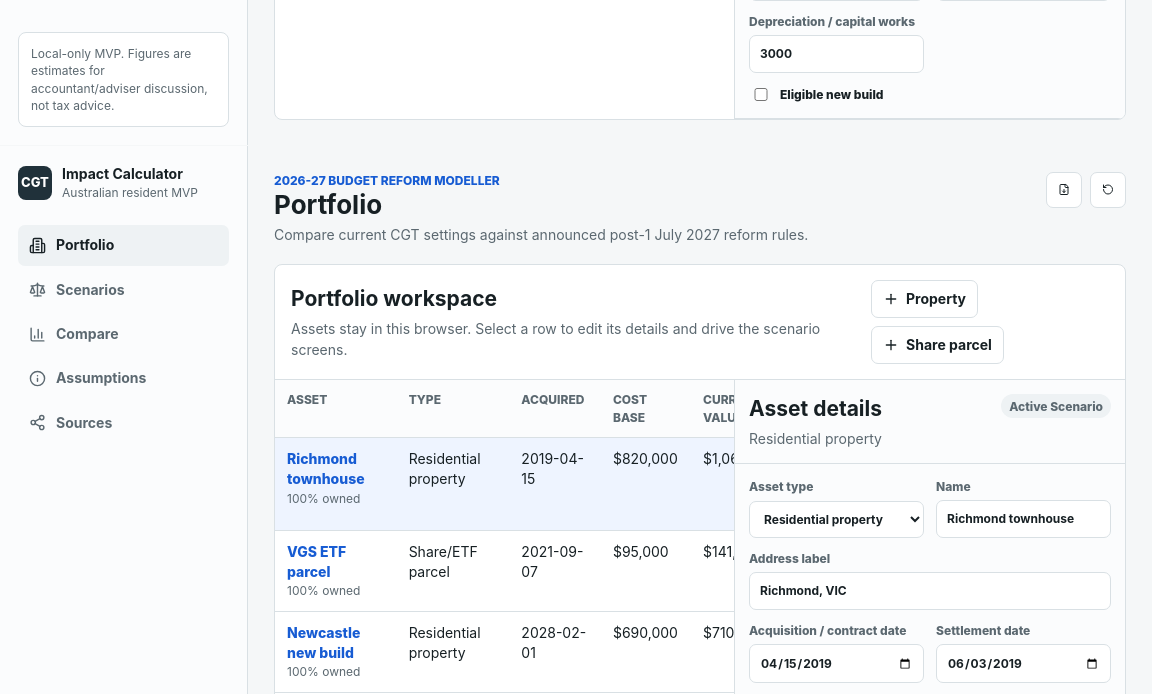
Test: App workspace › calculates share parcel current value from units and current unit price
The image size is (1152, 694).
(page scrolled)
What coordinates should you click on to do the following:
click the button "Share parcel"
I would click on:
 (937, 345)
Its box is [871, 326, 1004, 364].
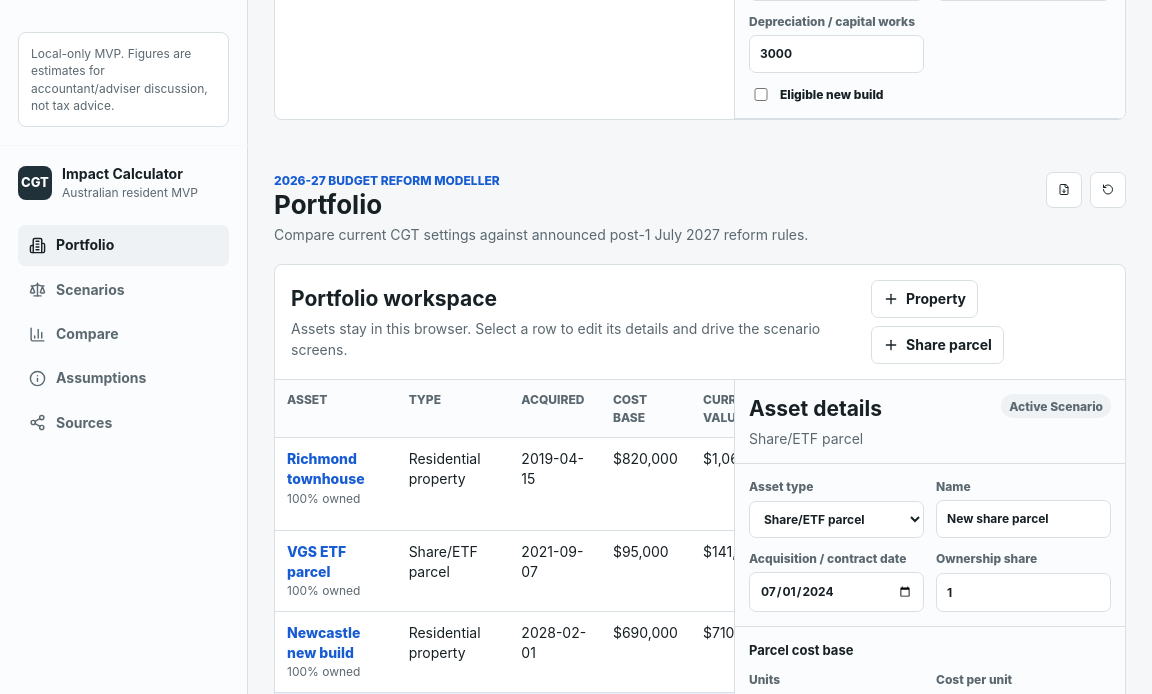
Result: the text "Parcel cost base" is shown at [749, 642, 853, 658]
